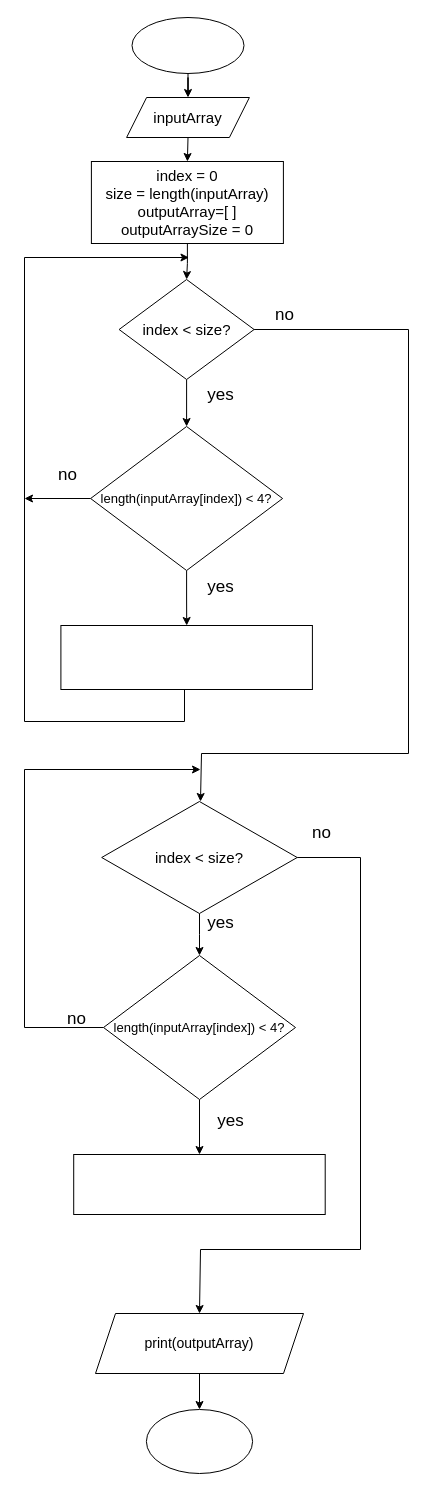
The diagram is 434 pixels wide and 1491 high, and some of its shapes have lost their labels. The shapes that lost their labels are listed below. From the top down, each one's centre as x and y in pixels, then its label:
At (187,45): "start".
At (186,657): "outputArraySize ++".
At (199,1184): "outputArray.append(inputArray[index])".
At (199,1441): "end".
